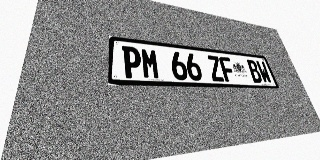6: (169, 51, 189, 80), (184, 53, 203, 81)
B: (246, 59, 263, 83)
F: (218, 56, 237, 82)
M: (140, 48, 161, 79)
P: (122, 46, 142, 79)
W: (255, 60, 273, 83)
Z: (206, 55, 225, 82)
